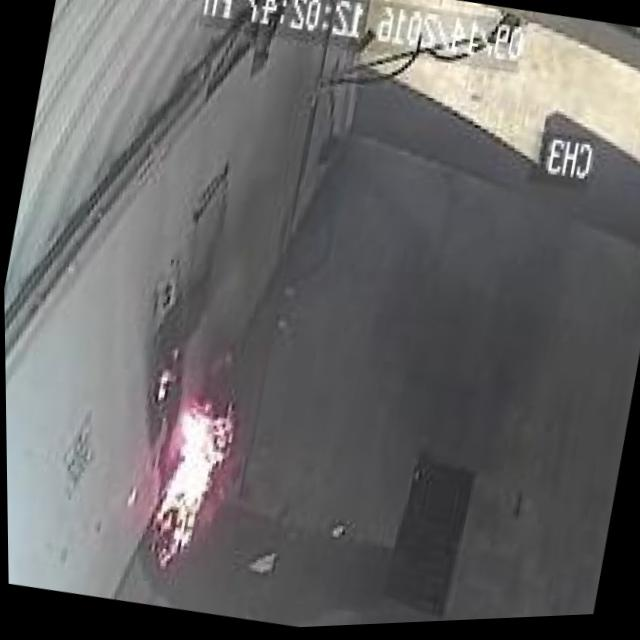fire: (108, 347, 263, 584)
